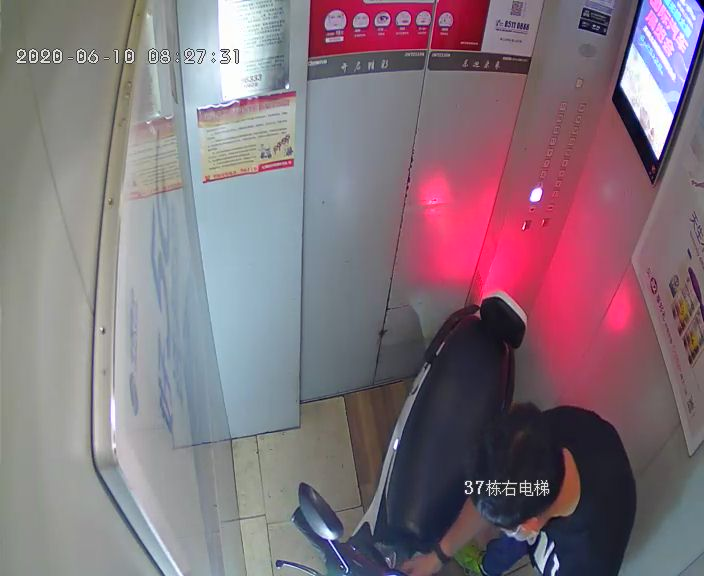Electric-bicycle: (330, 299, 525, 576)
